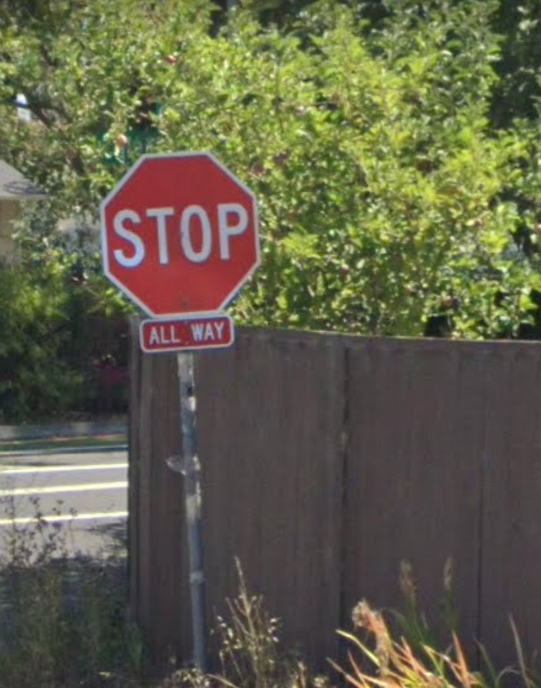stop_sign: (101, 152, 260, 316)
